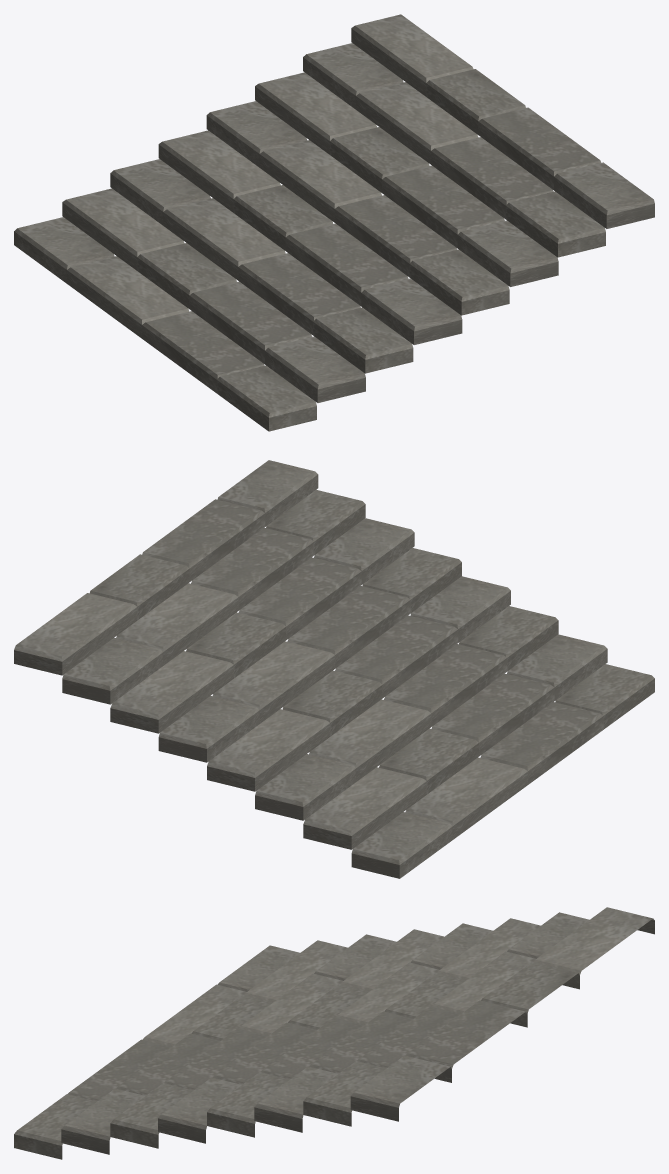
Rendered from SM_stair.fbx.
3 views of the same model, one above another, from view 1: azimuth 30°, elevation 25°; view 2: azimuth 150°, elevation 25°; view 3: azimuth 330°, elevation 25° (orthographic).
Visible parts, largest first — view 1: SM_stair; view 2: SM_stair; view 3: SM_stair.
Part boxes in pixels (bbox=[...]): SM_stair: bbox=[14, 14, 654, 431]; SM_stair: bbox=[14, 460, 654, 878]; SM_stair: bbox=[14, 907, 654, 1159].
Size of the model in its own units: 5.26 by 1.8 by 6.04.
